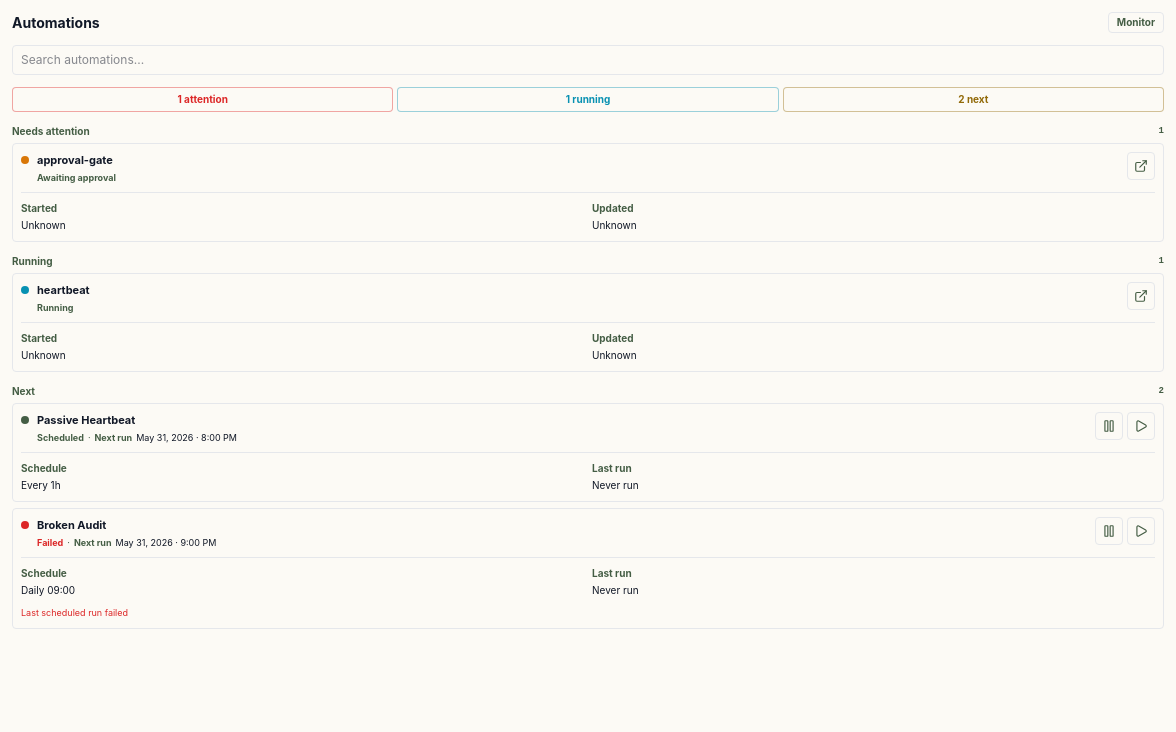
AutomationMonitorGlance › filters runs and schedules from one search field
Type "heartbeat" into the search field with placeholder "Search automations..." at (588, 60), box [12,45,1164,75]
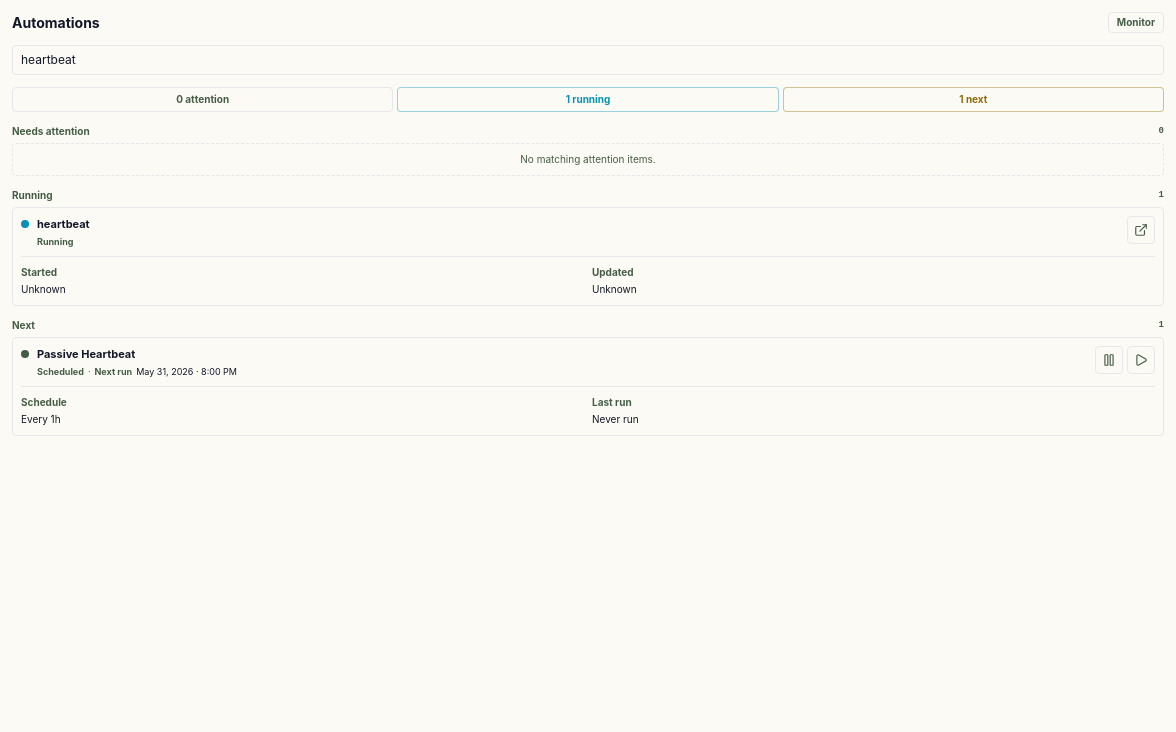
Expected: the heading "Passive Heartbeat" is shown, [37,347,135,361]
Expected: the heading "Broken Audit" is gone
Expected: the heading "approval-gate" is gone
